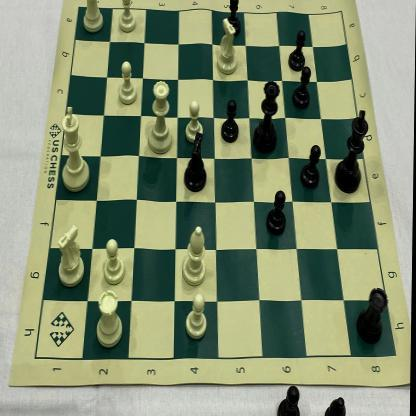black-king: (332, 105, 371, 198)
black-knight: (178, 131, 211, 195)
black-pawn: (265, 191, 291, 242), (298, 145, 325, 190), (289, 66, 314, 111), (286, 27, 308, 74), (220, 97, 241, 145), (220, 0, 245, 37)
black-queen: (251, 76, 282, 157)
black-rook: (355, 279, 391, 347)
white-bishop: (180, 223, 211, 289)
white-king: (56, 104, 93, 194)
white-knight: (53, 223, 89, 290), (214, 14, 241, 80)
white-pawn: (184, 288, 213, 342), (101, 236, 128, 288), (183, 97, 207, 145), (115, 63, 139, 107), (116, 0, 139, 35)
white-queen: (145, 74, 175, 159)
white-rook: (93, 287, 128, 350), (76, 0, 107, 37)
